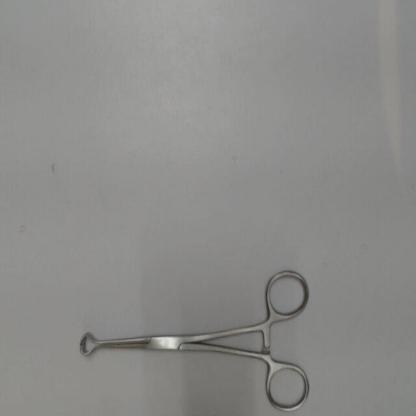Babcock Tissue Forceps: (75, 262, 314, 414)
